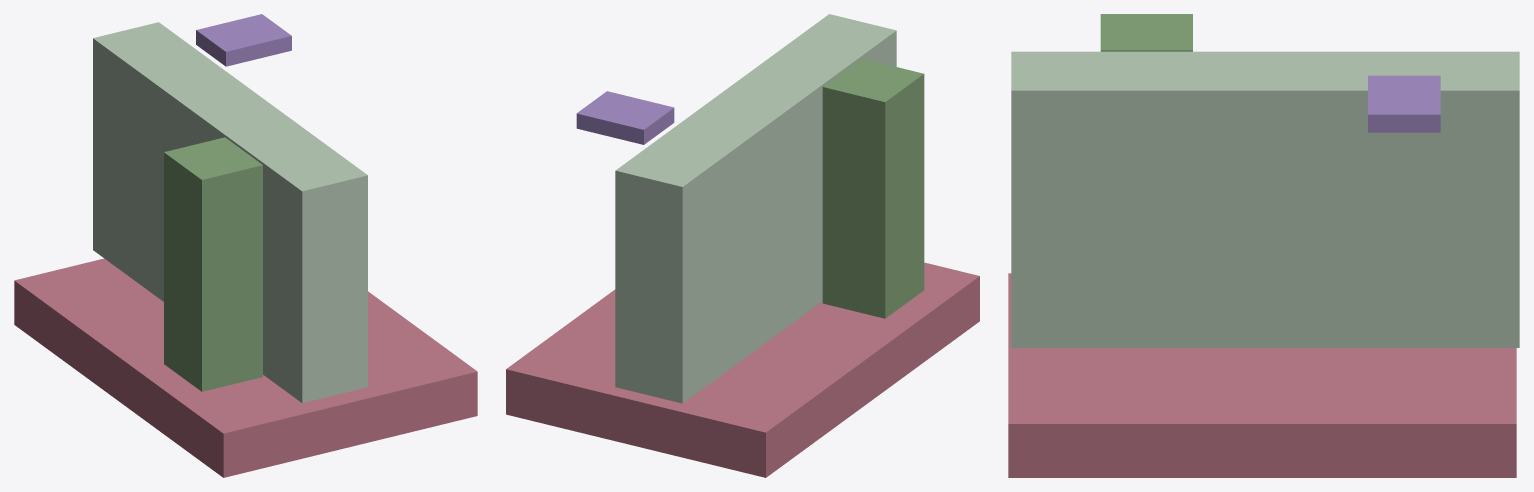
The model's file is 199508_pred.glb.
3 views of the same model, side by side, from view 1: azimuth 30°, elevation 25°; view 2: azimuth 150°, elevation 25°; view 3: azimuth 270°, elevation 25° (orthographic). The views are drawn at different scales.
Visible parts, largest first — view 1: world; view 2: world; view 3: world.
Boxes of the visible parts, x1,y1,x2,y2 form: world: (14,14,477,477); world: (506,14,979,477); world: (1008,14,1519,477).
Size of the model in its own units: 5.4 by 5.7 by 7.75.
